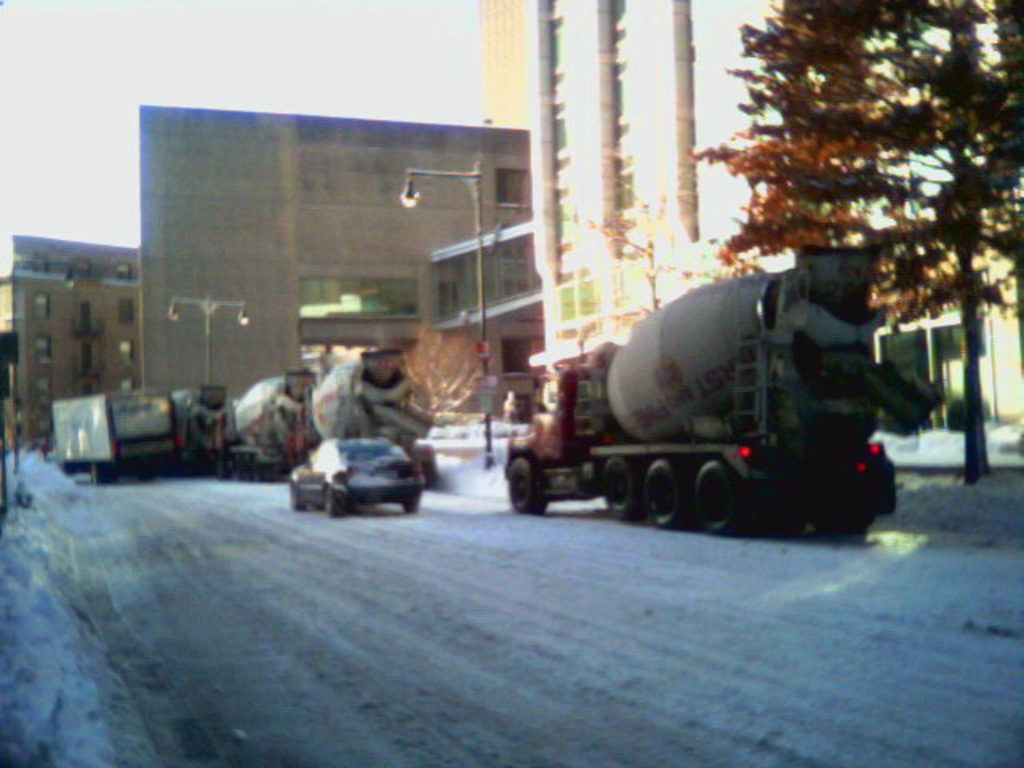Car: (283, 433, 432, 515)
